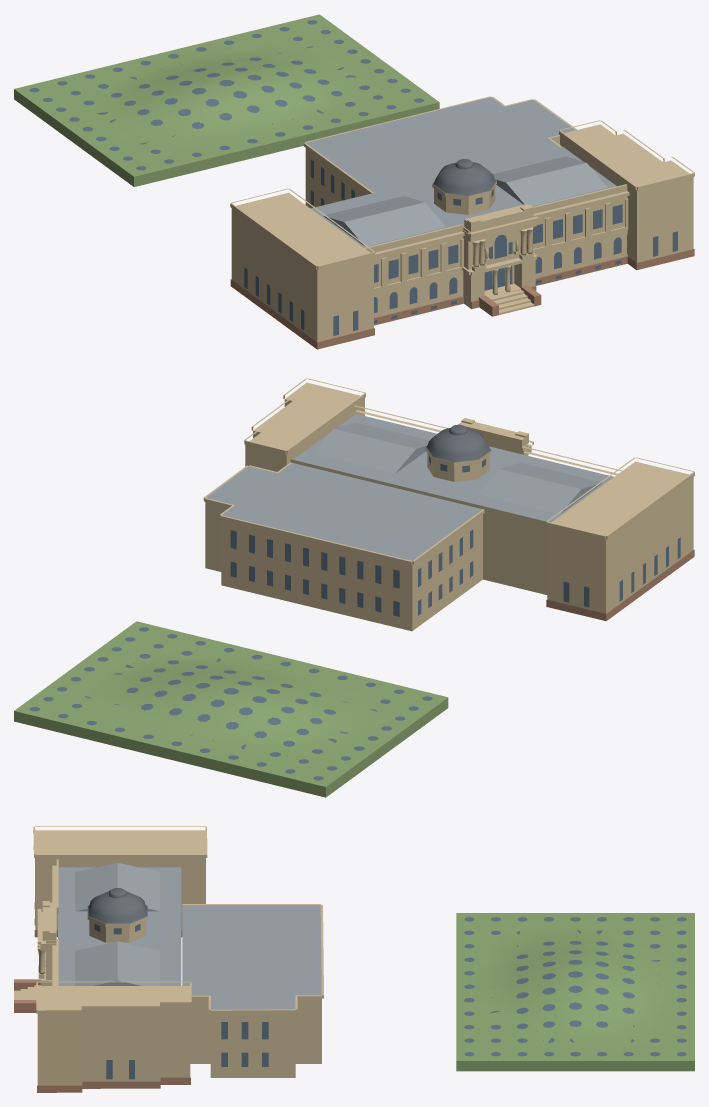
The model's file is frankfurt-staedel.glb.
3 views of the same model, one above another, from view 1: azimuth 30°, elevation 25°; view 2: azimuth 150°, elevation 25°; view 3: azimuth 270°, elevation 25° (orthographic). The views are drawn at different scales.
Visible parts, largest first — view 1: Städel Museum; view 2: Städel Museum; view 3: Städel Museum.
Part boxes in pixels (x1,y1,x2,y2): Städel Museum: [14, 14, 694, 349]; Städel Museum: [14, 378, 694, 797]; Städel Museum: [14, 826, 694, 1092].
Size of the model in its own units: 77.5 by 21.6 by 121.
